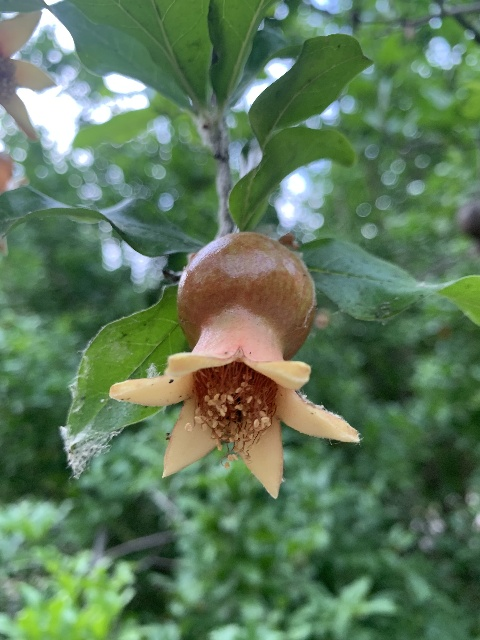early-fruit: (107, 229, 359, 498)
